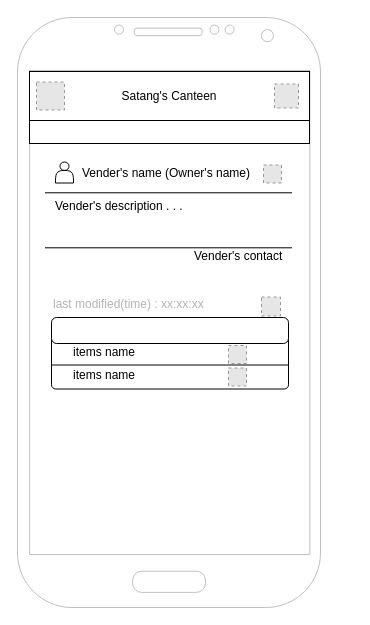
The diagram is 370 pixels wide and 625 high, and some of its shapes have lost their labels. Grey dashed boxes stand in for pictures. Each missing label, with the centre of its shape:
"%date{ddd mmm dd yyyy}%" belongs at (169,132).
"Available menu 2" belongs at (169,330).
